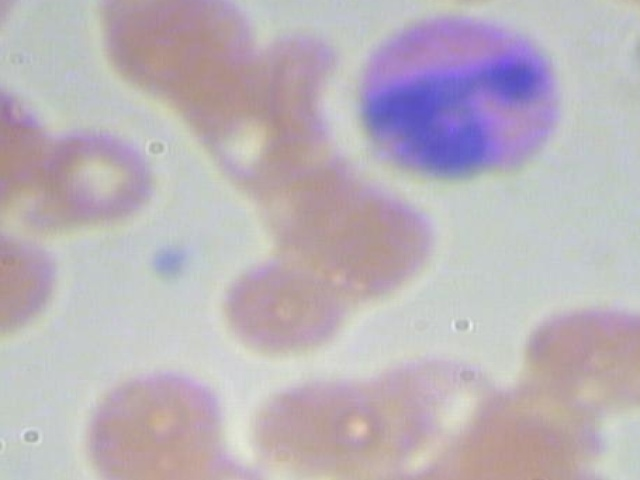Platelets: (143, 236, 199, 288)
WBC: (339, 3, 587, 190)
